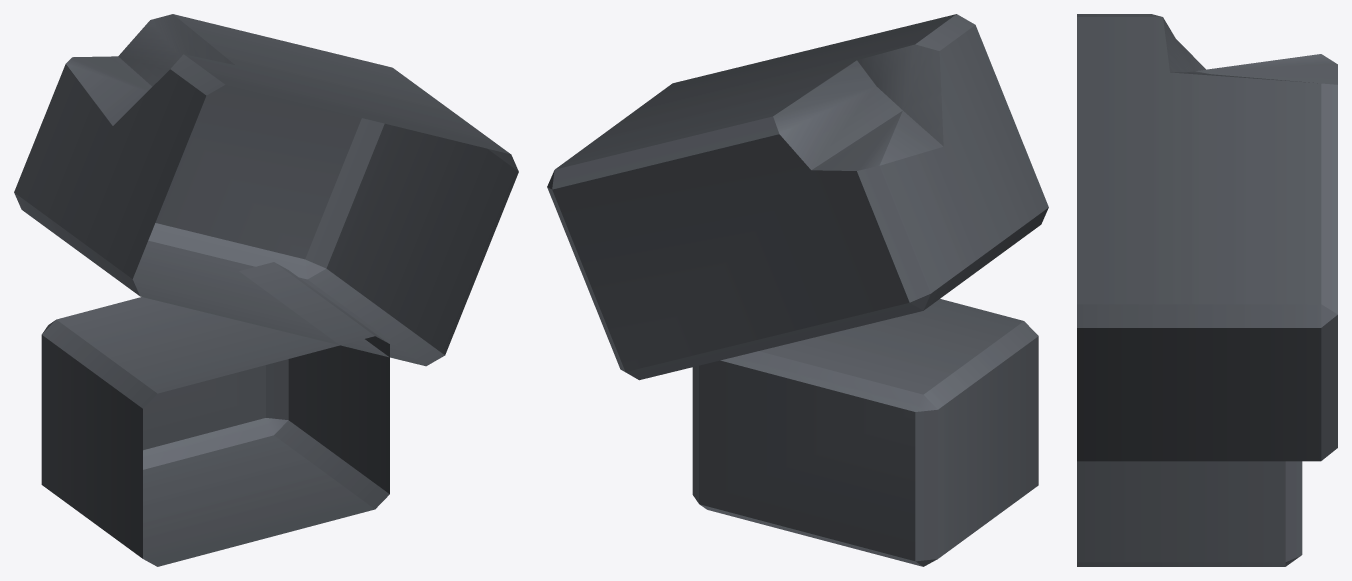
The model's file is Debris 05.FBX.
The picture shows the model from 3 angles, left to right: view 1: azimuth 30°, elevation 25°; view 2: azimuth 150°, elevation 25°; view 3: azimuth 270°, elevation 25°; orthographic projection. The views are drawn at different scales.
Visible parts, largest first — view 1: Debris 05; view 2: Debris 05; view 3: Debris 05.
Part boxes in pixels (x1,y1,x2,y2): Debris 05: (14, 14, 518, 566); Debris 05: (547, 14, 1048, 566); Debris 05: (1077, 14, 1337, 566).
Bounding box in the file's own units: 86.38 × 99.52 × 49.12.
